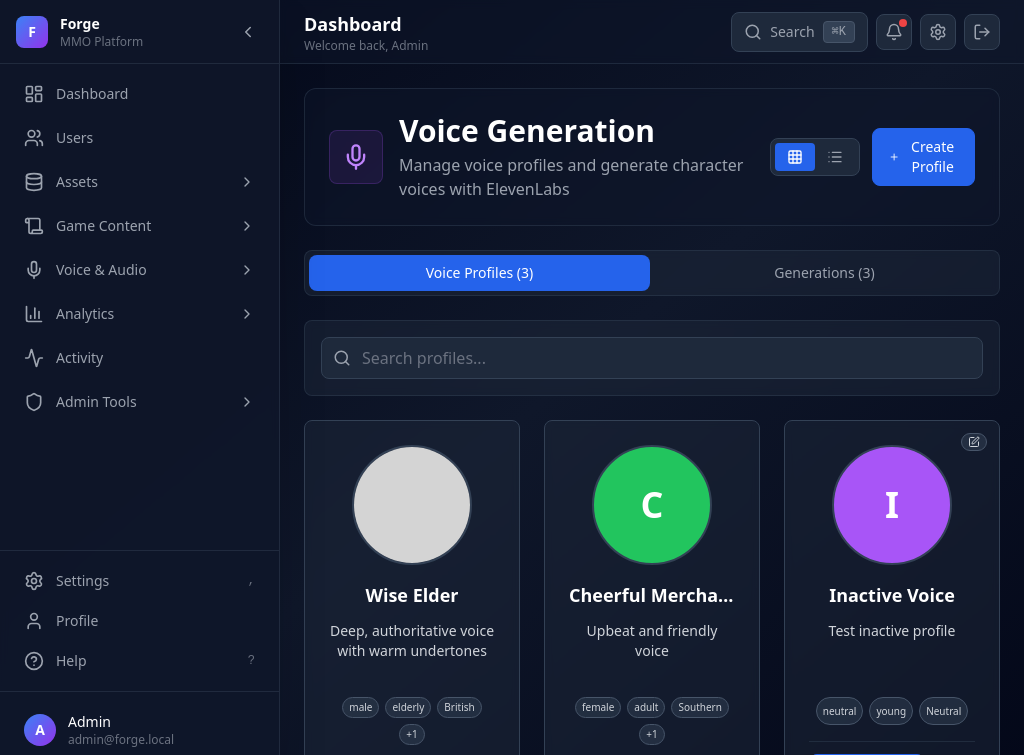
it: VoicePage - Integration Tests › Voice Profile Creation › opens create profile modal when "Create Profile" is clicked
Expected: the heading "Wise Elder" is shown, [366,583,458,607]
Click the button "Create Profile": (923, 157) [872,128,975,186]
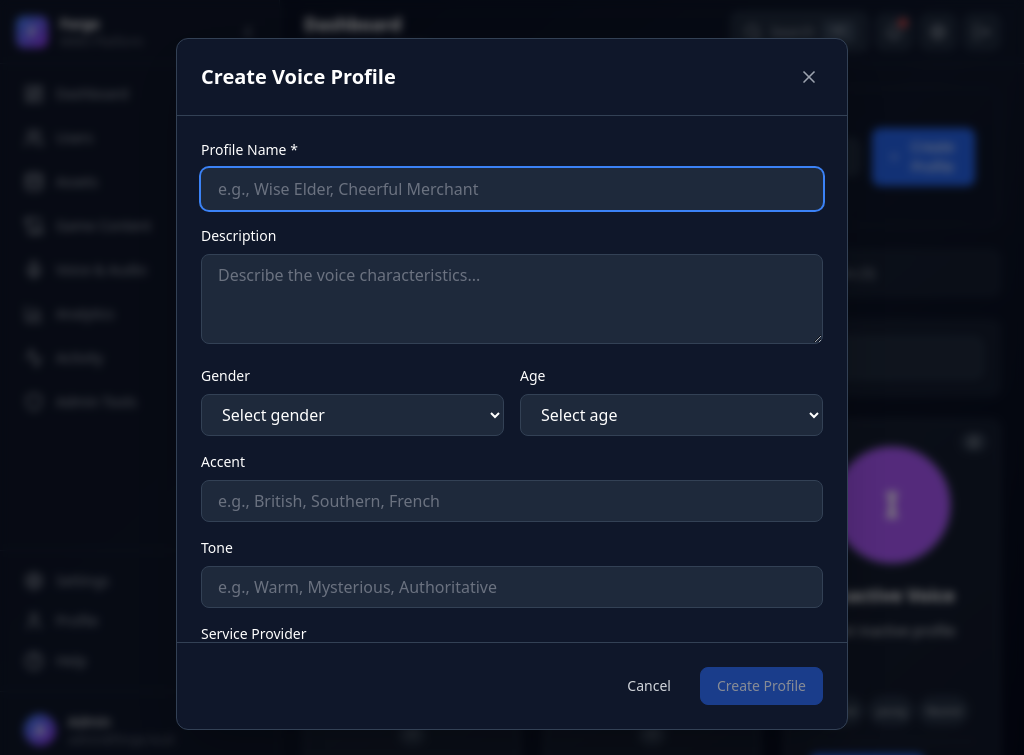
Now the heading "Create Voice Profile" is shown, box [201,63,396,91]
Now the field with placeholder "e.g., Wise Elder, Cheerful Merchant" is shown, box [201,168,823,210]
